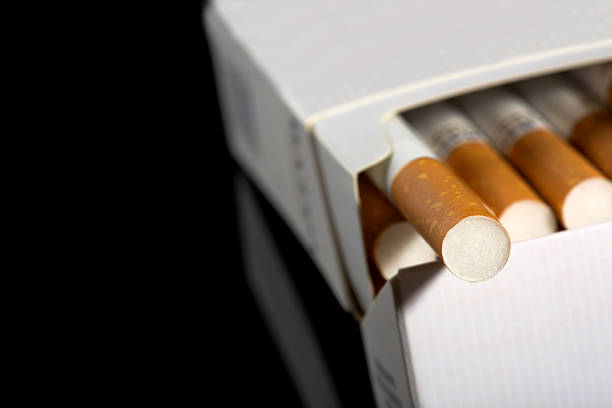cigarette: (203, 0, 612, 408), (364, 115, 514, 284), (403, 101, 557, 244), (460, 85, 612, 229), (511, 69, 612, 179), (358, 174, 437, 281), (571, 59, 612, 103)
